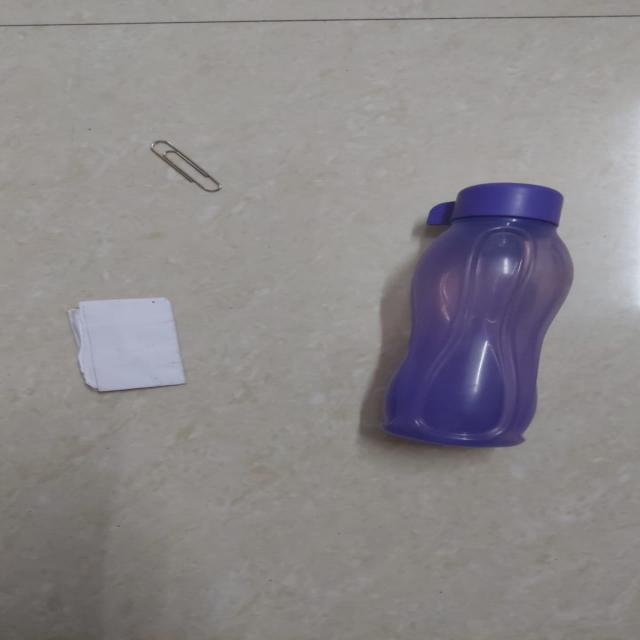dry: (377, 180, 579, 449), (71, 295, 191, 393), (144, 133, 227, 200)
